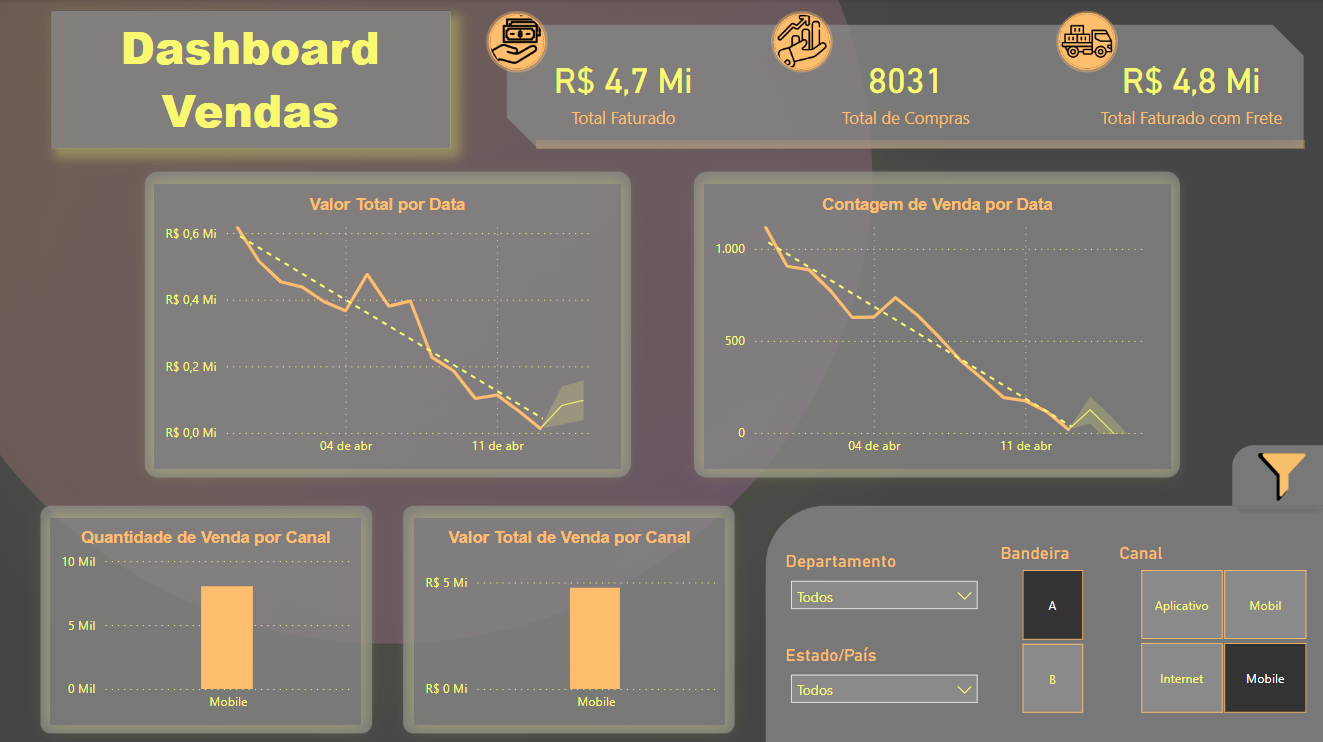

The page's visual inventory and layout, read from the dashboard file:
{"tool":"powerbi","page":{"name":"Vendas","canvas":[1280,720],"ordinal":0},"visuals":[{"type":"card","fields":{"Values":["Sum(BD - Compras.Preço)"]},"box":[502.9,37.4,199,100.1],"z":0},{"type":"slicer","title":"Estado/País","fields":{"Values":["BD - Compras.estado"]},"box":[753.8,617.5,200.2,79.6],"z":1000},{"type":"card","fields":{"Values":["Sum(BD - Compras.Preço_com_frete)"]},"box":[1050,37.1,200,100],"z":2000},{"type":"lineChart","title":"Contagem de Venda por Data","fields":{"Y":["CountNonNull(BD - Compras.idcompra)"],"Category":["BD - Compras.Data.Variation.Hierarquia de datas.Ano","BD - Compras.Data.Variation.Hierarquia de datas.Mês","BD - Compras.Data.Variation.Hierarquia de datas.Dia"]},"box":[680,179,450,275],"z":3000},{"type":"lineChart","title":"Valor Total por Data","fields":{"Y":["Sum(BD - Compras.Preço)"],"Category":["BD - Compras.Data.Variation.Hierarquia de datas.Ano","BD - Compras.Data.Variation.Hierarquia de datas.Trimestre","BD - Compras.Data.Variation.Hierarquia de datas.Mês","BD - Compras.Data.Variation.Hierarquia de datas.Dia"]},"box":[150,179,450,275],"z":4000},{"type":"clusteredColumnChart","title":"Quantidade de Venda por Canal","fields":{"Y":["CountNonNull(BD - Compras.idcompra)"],"Category":["BD - Compras.idcanalvenda"]},"box":[50,501.1,300,200],"z":5000},{"type":"clusteredColumnChart","title":"Valor Total de Venda por Canal","fields":{"Category":["BD - Compras.idcanalvenda"],"Y":["Sum(BD - Compras.Preço)"]},"box":[400,500.6,300,200],"z":6000},{"type":"slicer","title":"Bandeira","fields":{"Values":["BD - Compras.bandeira"]},"box":[961.2,519.8,108.5,176.1],"z":7000},{"type":"slicer","title":"Canal","fields":{"Values":["BD - Compras.idcanalvenda"]},"box":[1075.7,520,204.3,175.7],"z":8000},{"type":"slicer","title":"Departamento","fields":{"Values":["BD - Compras.Nome_Departamento"]},"box":[753.8,527,200.2,76],"z":9000},{"type":"card","fields":{"Values":["Count(BD - Compras.idcompra)"]},"box":[775.5,37.4,199,100.1],"z":10000},{"type":"shape","box":[518.6,135.7,741.4,8.6],"z":11000},{"type":"shape","box":[1182.9,480.7,97.1,14.3],"z":12000},{"type":"textbox","box":[50,11.4,385.7,132.9],"z":13000}]}

Visuals, with their boxes in screenshot pixels (x1, y1, x2, y2), scaled from the page's 1280x720 canvas onto the 1323x742 screenshot:
card - Sum(BD - Compras.Preço): {"x1": 520, "y1": 39, "x2": 725, "y2": 142}
"Estado/País" slicer: {"x1": 779, "y1": 636, "x2": 986, "y2": 718}
card - Sum(BD - Compras.Preço_com_frete): {"x1": 1085, "y1": 38, "x2": 1292, "y2": 141}
"Contagem de Venda por Data" lineChart: {"x1": 703, "y1": 184, "x2": 1168, "y2": 468}
"Valor Total por Data" lineChart: {"x1": 155, "y1": 184, "x2": 620, "y2": 468}
"Quantidade de Venda por Canal" clusteredColumnChart: {"x1": 52, "y1": 516, "x2": 362, "y2": 723}
"Valor Total de Venda por Canal" clusteredColumnChart: {"x1": 413, "y1": 516, "x2": 724, "y2": 722}
"Bandeira" slicer: {"x1": 993, "y1": 536, "x2": 1106, "y2": 717}
"Canal" slicer: {"x1": 1112, "y1": 536, "x2": 1322, "y2": 717}
"Departamento" slicer: {"x1": 779, "y1": 543, "x2": 986, "y2": 621}
card - Count(BD - Compras.idcompra): {"x1": 802, "y1": 39, "x2": 1007, "y2": 142}
shape: {"x1": 536, "y1": 140, "x2": 1302, "y2": 149}
shape: {"x1": 1223, "y1": 495, "x2": 1322, "y2": 510}
textbox: {"x1": 52, "y1": 12, "x2": 450, "y2": 149}
